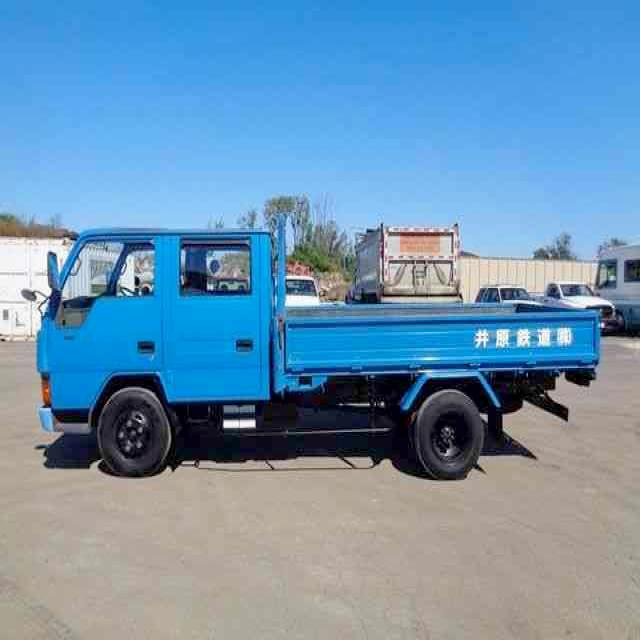truck: (38, 226, 600, 480)
